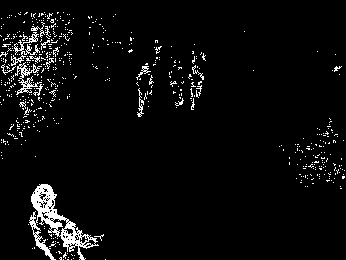person: (129, 63, 155, 120), (168, 57, 188, 112), (189, 65, 208, 115)
